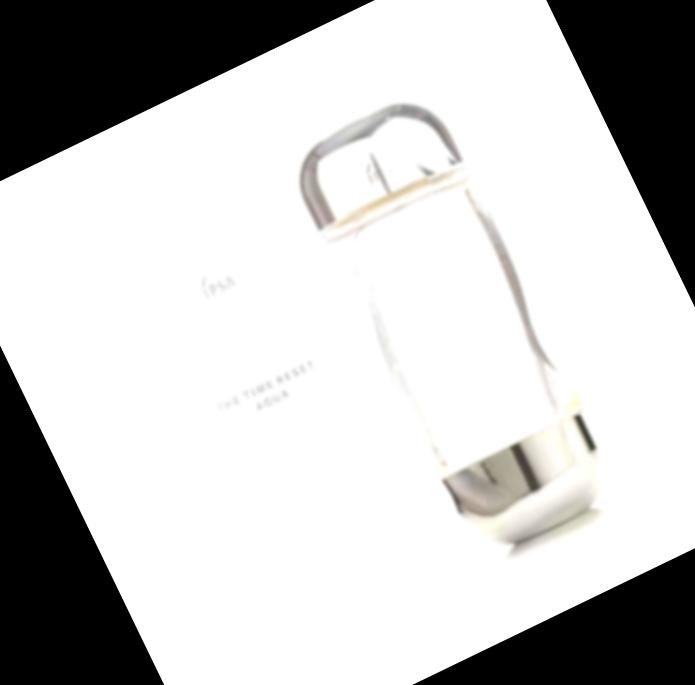cosmetic: (283, 82, 633, 566)
